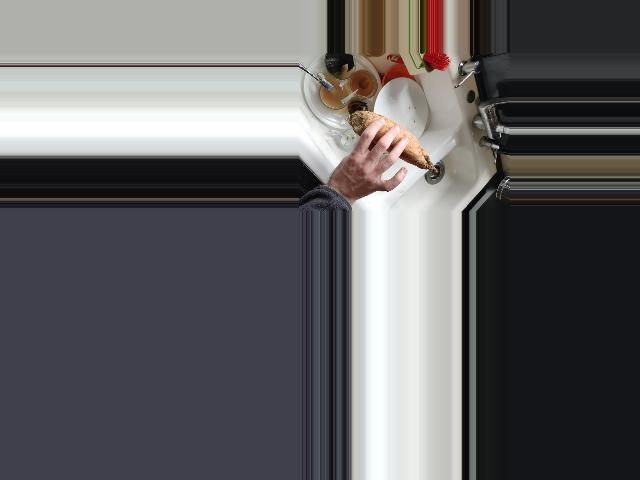sweet_potato: (350, 110, 438, 173)
